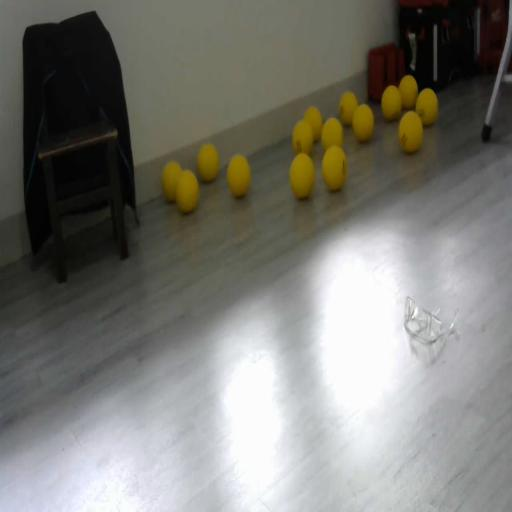FUEL: (288, 152, 315, 199), (321, 144, 347, 192), (226, 153, 251, 198), (398, 110, 423, 153), (197, 143, 220, 182), (416, 87, 438, 126), (162, 161, 182, 202), (321, 117, 343, 152), (381, 85, 402, 121), (303, 105, 323, 142), (398, 74, 418, 109), (339, 90, 358, 126)
